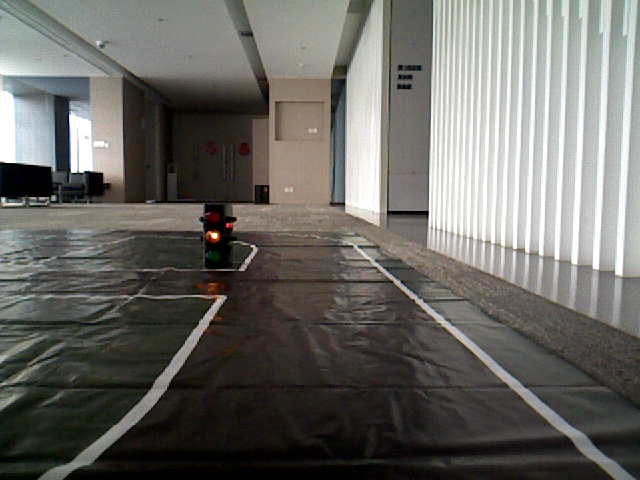yellow: (202, 200, 227, 260)
